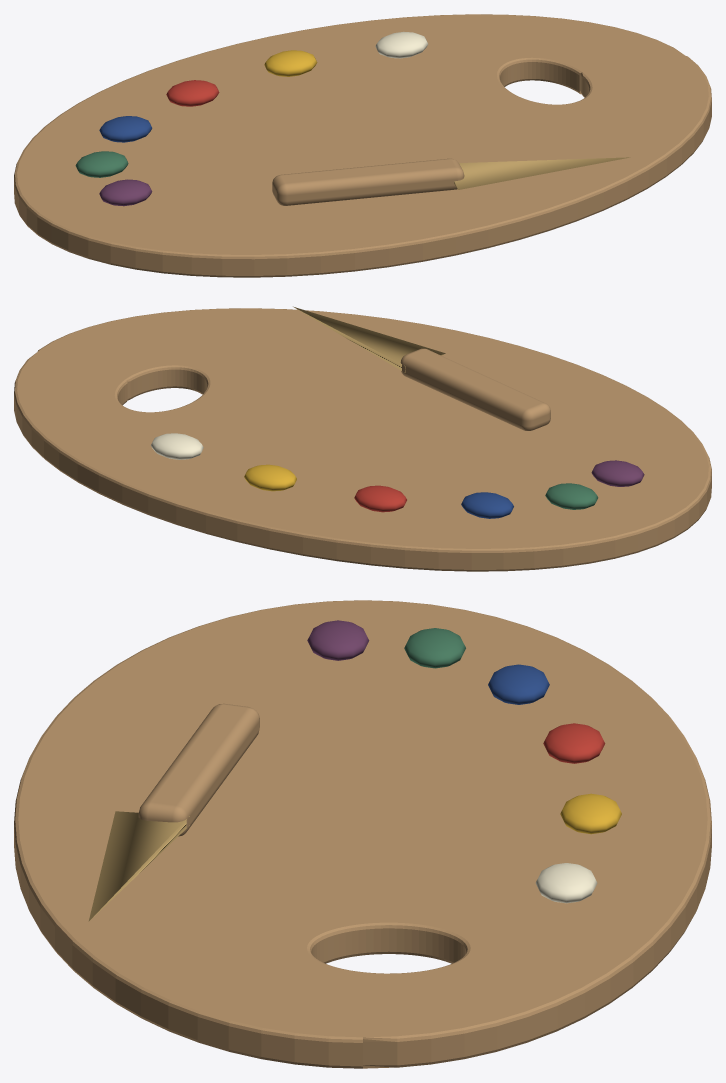
File: atelier-artist-palette-oak.glb
3 views of the same model, one above another, from view 1: azimuth 30°, elevation 25°; view 2: azimuth 150°, elevation 25°; view 3: azimuth 270°, elevation 25° (orthographic). The views are drawn at different scales.
Size of the model in its own units: 0.242 by 0.015 by 0.162.
